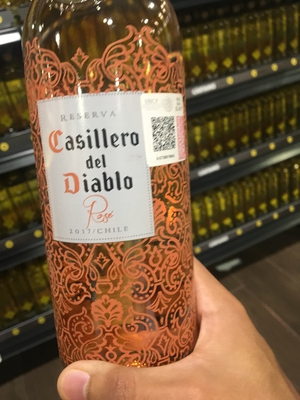casillero del diablo rose: (23, 11, 208, 383)
